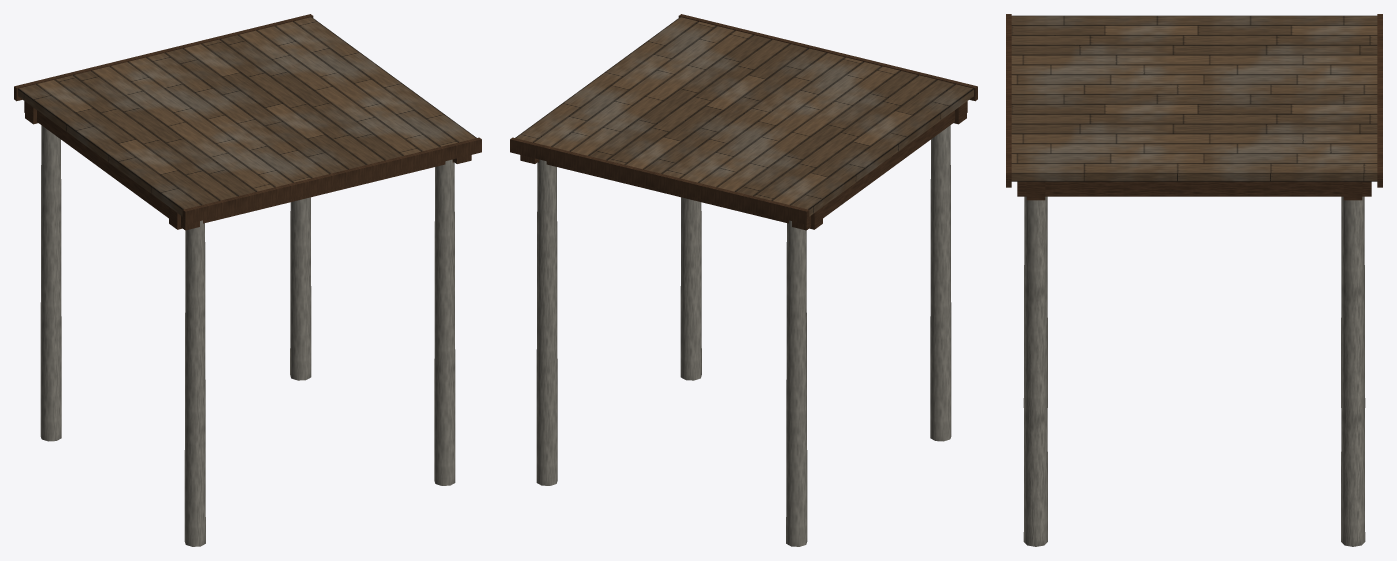
The model's file is SM_Art_Pier_400x400x100_P450.gltf.
3 renders of one model, left to right at view 1: azimuth 30°, elevation 25°; view 2: azimuth 150°, elevation 25°; view 3: azimuth 270°, elevation 25°, orthographic. The views are drawn at different scales.
Visible parts, largest first — view 1: SM_Art_Pier_400x400x100_P450; view 2: SM_Art_Pier_400x400x100_P450; view 3: SM_Art_Pier_400x400x100_P450.
Part boxes in pixels (box(x1,y1,x2,y2)): SM_Art_Pier_400x400x100_P450: box(14, 14, 481, 546); SM_Art_Pier_400x400x100_P450: box(510, 14, 977, 546); SM_Art_Pier_400x400x100_P450: box(1006, 14, 1382, 546).
Size of the model in its own units: 4.04 by 4.51 by 4.04.
3 materials, 3 textured.
